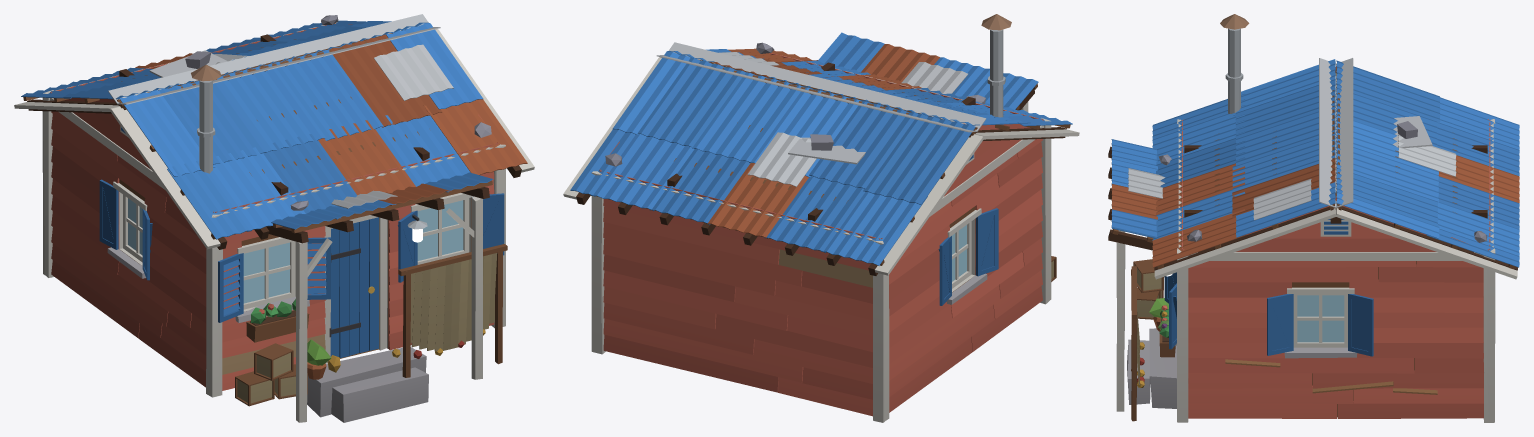
The picture shows the model from 3 angles, left to right: view 1: azimuth 30°, elevation 25°; view 2: azimuth 150°, elevation 25°; view 3: azimuth 270°, elevation 25°; orthographic projection. The views are drawn at different scales.
Parts seen in each view (by area): view 1: H03_ROOF, H03_WALL_S, H03_WALL_W, H03_BASE, H03_DOOR_main, H03_WALL_N; view 2: H03_ROOF, H03_WALL_N, H03_WALL_W, H03_WALL_S; view 3: H03_ROOF, H03_WALL_E, H03_WALL_S, H03_BASE, H03_WALL_N.
Boxes of the visible parts, box(x1,y1,x2,y2) form: H03_ROOF: box(14, 14, 534, 249); H03_WALL_S: box(212, 143, 507, 422); H03_WALL_W: box(43, 90, 222, 397); H03_BASE: box(307, 347, 428, 422); H03_DOOR_main: box(329, 217, 378, 358); H03_WALL_N: box(42, 22, 337, 274); H03_ROOF: box(563, 14, 1079, 275); H03_WALL_N: box(591, 170, 884, 422); H03_WALL_W: box(873, 118, 1051, 420); H03_WALL_S: box(769, 32, 1056, 281); H03_ROOF: box(1152, 14, 1519, 279); H03_WALL_E: box(1177, 192, 1494, 422); H03_WALL_S: box(1108, 119, 1188, 421); H03_BASE: box(1127, 328, 1176, 408); H03_WALL_N: box(1484, 119, 1495, 422).
Bounding box in the file's own units: 4.62 × 4.54 × 5.37.
